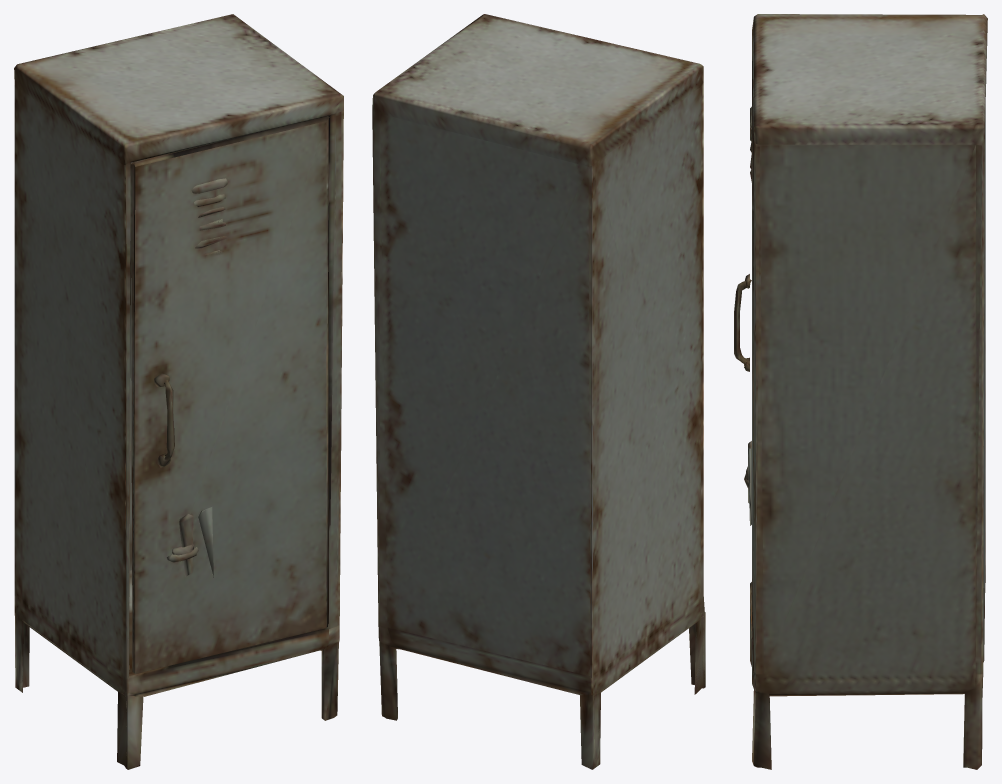
Rendered from small metal locker.fbx.
The picture shows the model from 3 angles, left to right: view 1: azimuth 30°, elevation 25°; view 2: azimuth 150°, elevation 25°; view 3: azimuth 270°, elevation 25°; orthographic projection. The views are drawn at different scales.
Parts seen in each view (by area): view 1: small metal locker; view 2: small metal locker; view 3: small metal locker.
Boxes of the visible parts, left/top/right/bottom form: small metal locker: left=14, top=14, right=343, bottom=769; small metal locker: left=372, top=14, right=705, bottom=769; small metal locker: left=734, top=14, right=987, bottom=769.
Size of the model in its own units: 158 by 428 by 152.
Materials: 1 (1 with a texture image).
